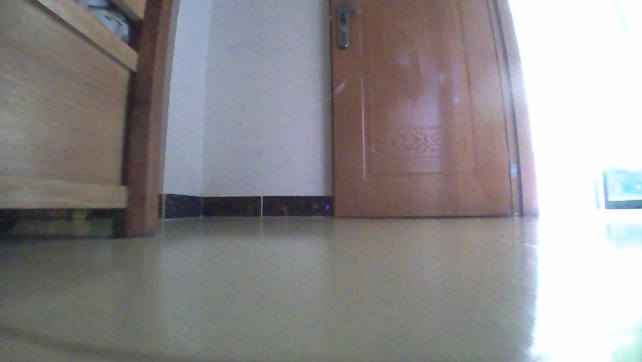door_anno: (325, 0, 540, 221)
